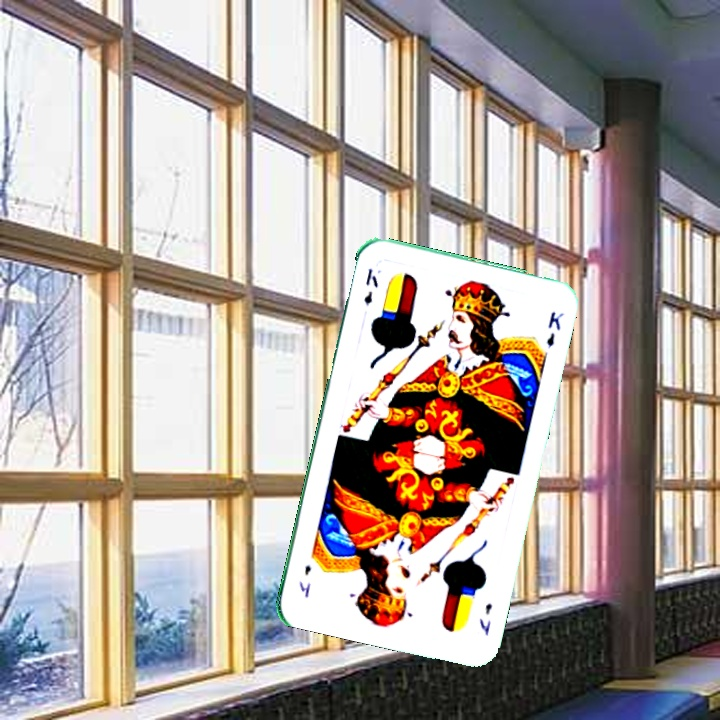EK: (360, 265, 381, 309), (475, 599, 495, 638)
